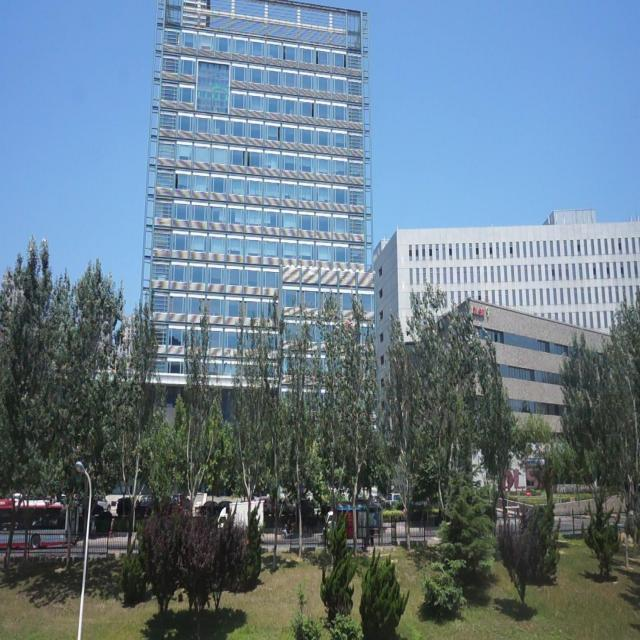UAV: (342, 318, 358, 325)
